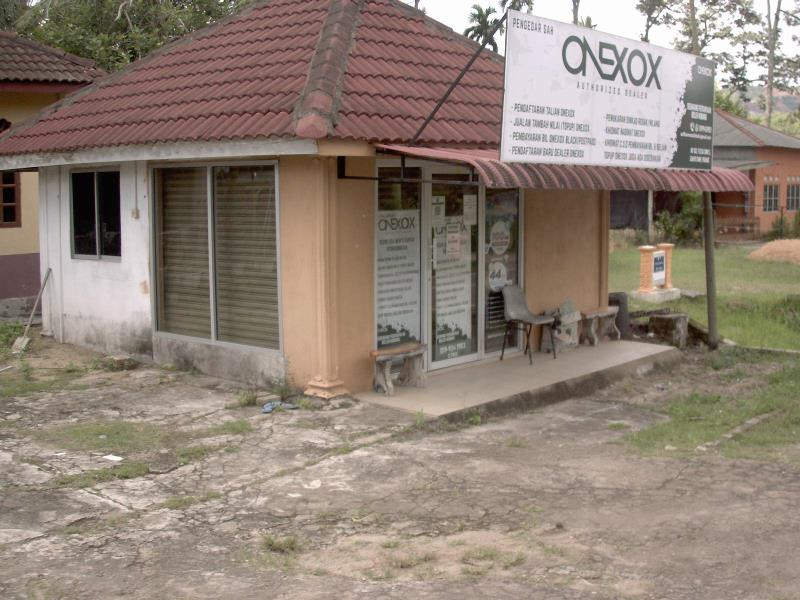ads_sign: (482, 9, 734, 184)
